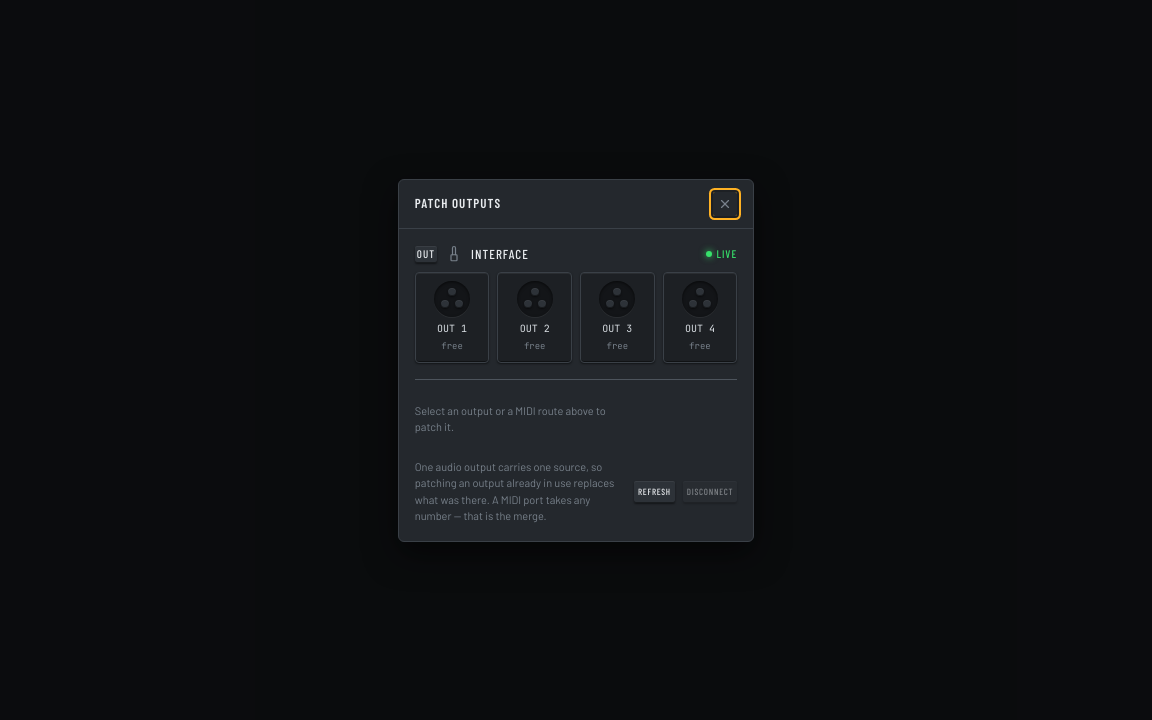
Scenario: OutputPatchbayModal › refuses to re-patch while the tape rolls, and says why beside the control
The width and height of the screenshot is (1152, 720).
What coordinates should you click on to do the following:
click the option with aria-label "OUT 1 on interface"
I would click on:
 (452, 317)
Its box is x1=415 y1=272 x2=489 y2=362.
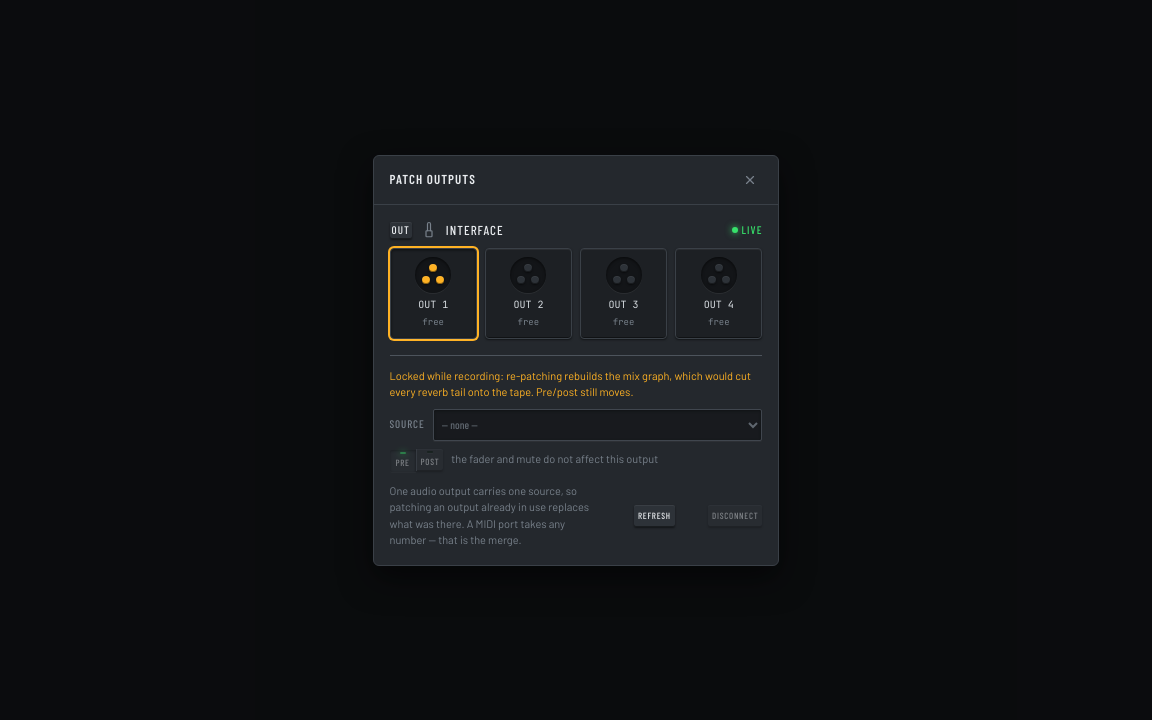
Check: the text "would cut every reverb tail onto the tape" is shown, box x1=390 y1=368 x2=751 y2=398
Check: the dropdown labelled "Source" is disabled, box x1=433 y1=408 x2=762 y2=440
